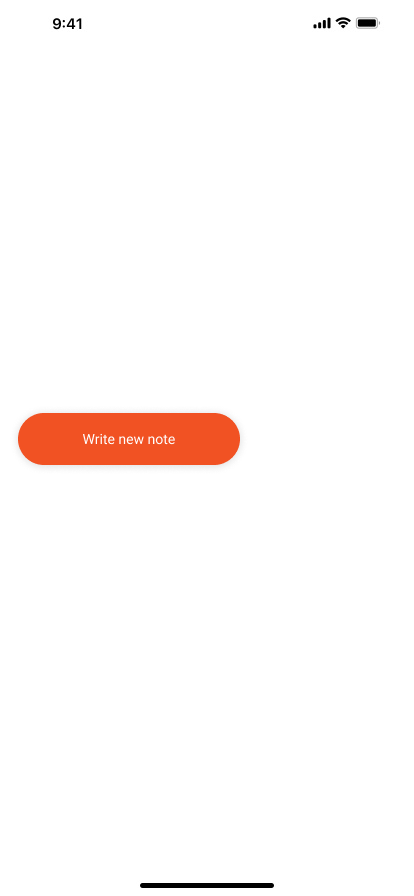Buttons: (8, 404, 250, 476)
Home Indicator: (0, 862, 414, 896)
Status Bar: (0, 0, 414, 44)
